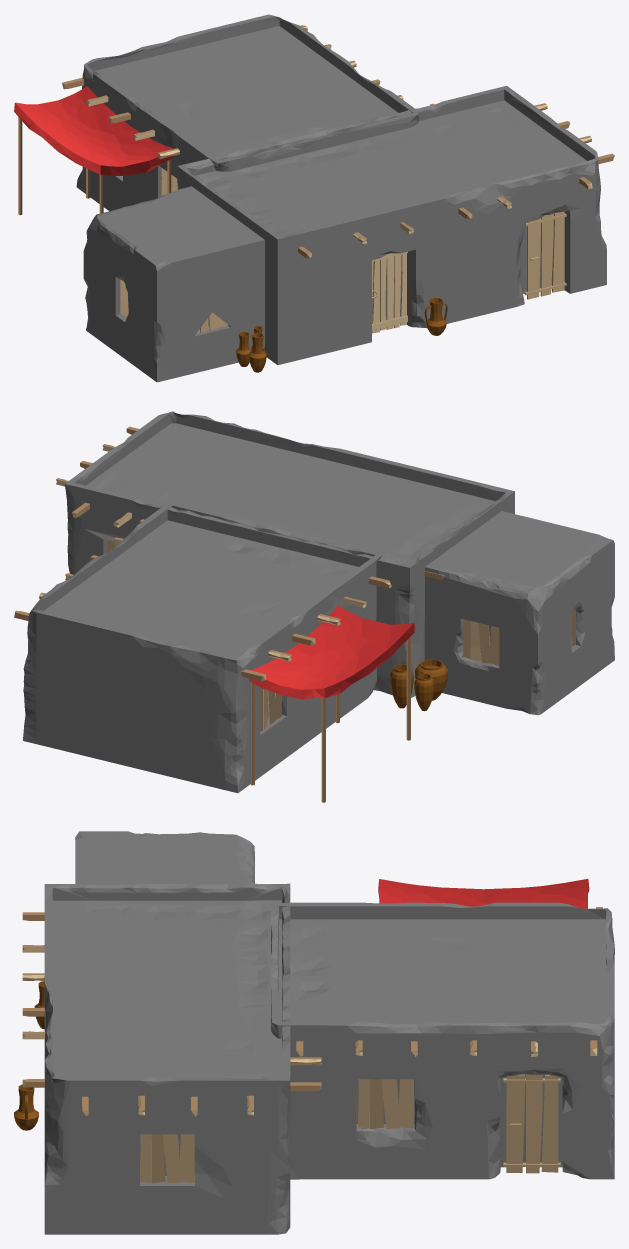
File: SM_house_egypt_02.fbx
3 renders of one model, top to bottom at view 1: azimuth 30°, elevation 25°; view 2: azimuth 150°, elevation 25°; view 3: azimuth 270°, elevation 25°, orthographic. The views are drawn at different scales.
Visible parts, largest first — view 1: Object171; view 2: Object171; view 3: Object171.
Part boxes in pixels (bbox=[...]): Object171: bbox=[14, 14, 614, 382]; Object171: bbox=[14, 411, 614, 802]; Object171: bbox=[14, 831, 614, 1234].
Size of the model in its own units: 489 by 451 by 129.
